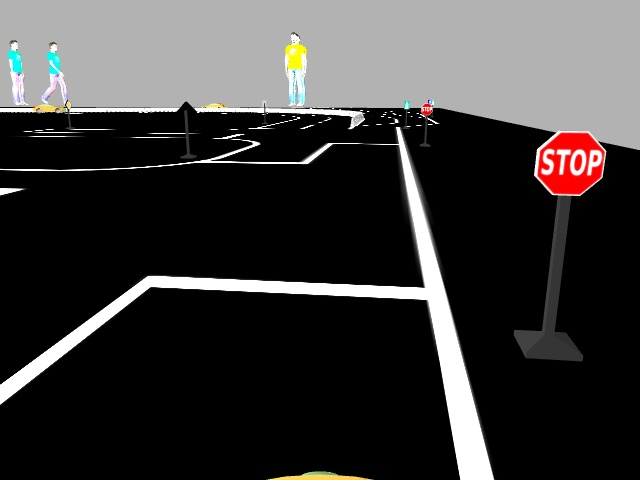Stop: (530, 129, 607, 196)
